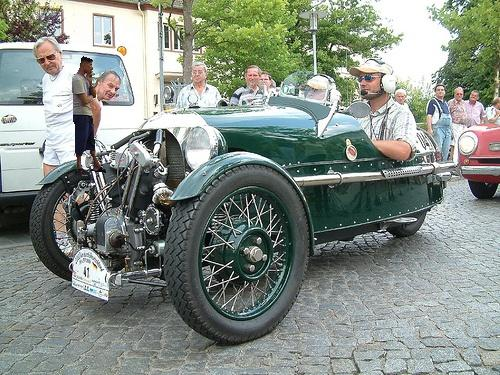tampered: (73, 57, 106, 176)
